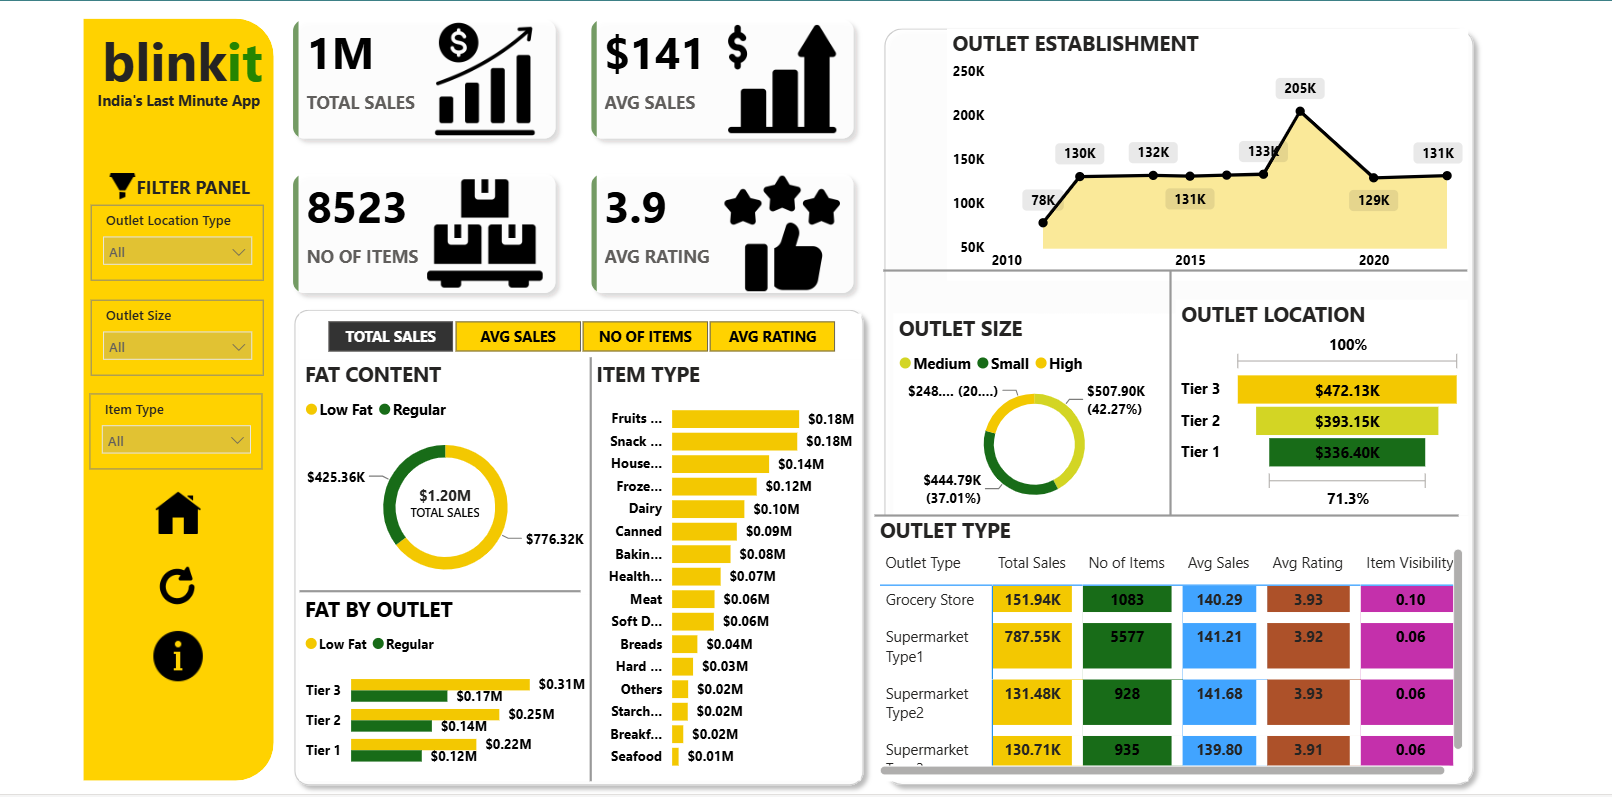

The dashboard page shown, as its layout file describes it:
{"tool":"powerbi","page":{"name":"Page 2","canvas":[1280,720],"ordinal":1},"visuals":[{"type":"shape","box":[10.1,15.8,172.8,691.2],"z":0},{"type":"textbox","box":[15.8,15.8,168.5,77.8],"z":1000},{"type":"textbox","box":[8.6,76.3,175.7,33.1],"z":2000},{"type":"cardVisual","fields":{"Data":["Table1.TOTAL SALES","Table1.AVG SALES","Table1.NO OF ITEMS","Table1.AVG RATING"]},"box":[184.1,0,542.4,283.6],"z":3000},{"type":"shape","box":[193,270.7,534.2,449.3],"z":4000},{"type":"slicer","fields":{"Values":["Matrix.Matrix"]},"box":[205.9,283.7,509.8,41.8],"z":5000},{"type":"donutChart","title":"FAT CONTENT","fields":{"Y":["Blinkit Grocery Data.TOTAL SALES"],"Category":["Table1.Item Fat Content"]},"box":[205.9,325.4,265,213.1],"z":6000},{"type":"clusteredBarChart","title":"ITEM TYPE","fields":{"Y":["Blinkit Grocery Data.TOTAL SALES"],"Category":["Table1.Item Type"]},"box":[470.9,325.4,244.8,381.6],"z":7000},{"type":"clusteredBarChart","title":"FAT BY OUTLET","fields":{"Y":["Blinkit Grocery Data.TOTAL SALES"],"Series":["Table1.Item Fat Content"],"Category":["Table1.Outlet Location Type"]},"box":[205.9,538.6,265,168.5],"z":8000},{"type":"cardVisual","fields":{"Data":["Blinkit Grocery Data.TOTAL SALES"]},"box":[298.1,432,80.6,46.1],"z":9000},{"type":"shape","box":[727.7,16.2,552.3,704.1],"z":10000},{"type":"lineChart","title":"OUTLET ESTABLISHMENT","fields":{"Category":["Table1.Outlet Establishment Year"],"Y":["Sum(Table1.Sales)"]},"box":[793.6,24.9,472.7,228.9],"z":11000},{"type":"donutChart","title":"OUTLET SIZE","fields":{"Y":["Blinkit Grocery Data.TOTAL SALES"],"Category":["Table1.Outlet Size"]},"box":[745.1,283.6,256.3,182.9],"z":12000},{"type":"funnel","title":"OUTLET LOCATION","fields":{"Y":["Blinkit Grocery Data.TOTAL SALES"],"Category":["Table1.Outlet Location Type"]},"box":[1001.4,271.2,265,195.3],"z":13000},{"type":"pivotTable","title":"OUTLET TYPE","fields":{"Rows":["Table1.Outlet Type"],"Values":["Sum(Table1.Sales)","CountNonNull(Table1.Item Identifier)","Avg(Table1.Sales)","Avg(Table1.Rating)","Avg(Table1.Item Visibility)"]},"box":[727.2,466.6,538.6,240.5],"z":14000},{"type":"shape","box":[735.8,236.2,529.9,17.3],"z":15000},{"type":"shape","box":[727.2,457.9,529.9,17.3],"z":16000},{"type":"shape","box":[205.9,531.4,254.9,7.2],"z":17000},{"type":"shape","box":[462.2,322.6,15.8,384.5],"z":18000},{"type":"shape","box":[992.2,244.8,8.6,221.8],"z":19000},{"type":"slicer","fields":{"Values":["Table1.Outlet Location Type"]},"box":[17.3,184.3,157,69.1],"z":20000},{"type":"slicer","fields":{"Values":["Table1.Outlet Size"]},"box":[17.3,270.7,157,69.1],"z":21000},{"type":"slicer","fields":{"Values":["Table1.Item Type"]},"box":[15.8,355.7,157,69.1],"z":22000},{"type":"textbox","box":[46.1,152.6,126.7,31.7],"z":23000},{"type":"image","box":[24.5,148.3,41.8,38.9],"z":24000},{"type":"image","box":[70.6,439.2,51.8,53.3],"z":25000},{"type":"image","box":[64.8,502.6,61.9,57.6],"z":26000},{"type":"image","box":[64.8,564.5,63.4,59],"z":27000}]}

Visuals, with their boxes on the page's 1280x720 design canvas (x1, y1, x2, y2). These are canvas units, not pixel positions in the 1612x797 screenshot, which may show the page scaled, cropped or inside an application window:
shape: BBox(10, 16, 183, 707)
textbox: BBox(16, 16, 184, 94)
textbox: BBox(9, 76, 184, 109)
cardVisual - Table1.TOTAL SALES x Table1.AVG SALES: BBox(184, 0, 726, 284)
shape: BBox(193, 271, 727, 720)
slicer - Matrix.Matrix: BBox(206, 284, 716, 326)
"FAT CONTENT" donutChart: BBox(206, 325, 471, 538)
"ITEM TYPE" clusteredBarChart: BBox(471, 325, 716, 707)
"FAT BY OUTLET" clusteredBarChart: BBox(206, 539, 471, 707)
cardVisual - Blinkit Grocery Data.TOTAL SALES: BBox(298, 432, 379, 478)
shape: BBox(728, 16, 1280, 720)
"OUTLET ESTABLISHMENT" lineChart: BBox(794, 25, 1266, 254)
"OUTLET SIZE" donutChart: BBox(745, 284, 1001, 466)
"OUTLET LOCATION" funnel: BBox(1001, 271, 1266, 466)
"OUTLET TYPE" pivotTable: BBox(727, 467, 1266, 707)
shape: BBox(736, 236, 1266, 254)
shape: BBox(727, 458, 1257, 475)
shape: BBox(206, 531, 461, 539)
shape: BBox(462, 323, 478, 707)
shape: BBox(992, 245, 1001, 467)
slicer - Table1.Outlet Location Type: BBox(17, 184, 174, 253)
slicer - Table1.Outlet Size: BBox(17, 271, 174, 340)
slicer - Table1.Item Type: BBox(16, 356, 173, 425)
textbox: BBox(46, 153, 173, 184)
image: BBox(24, 148, 66, 187)
image: BBox(71, 439, 122, 492)
image: BBox(65, 503, 127, 560)
image: BBox(65, 564, 128, 624)
